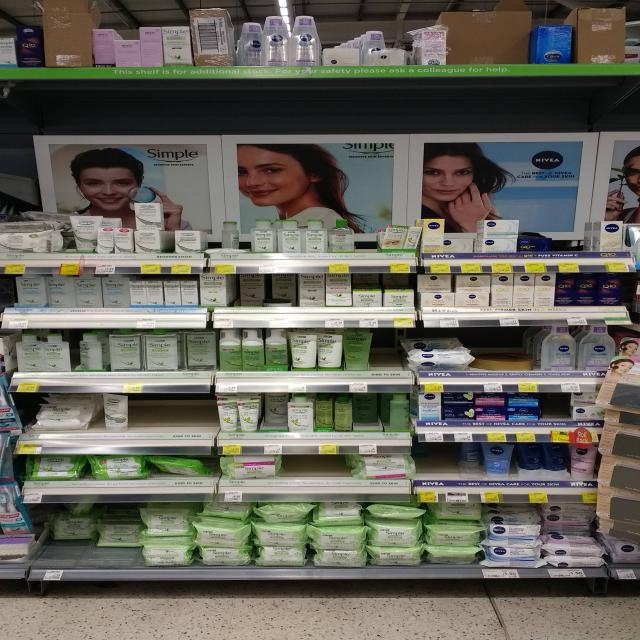void: (138, 396, 208, 432), (290, 455, 345, 480), (558, 212, 589, 252), (378, 332, 408, 371), (422, 444, 455, 478)
